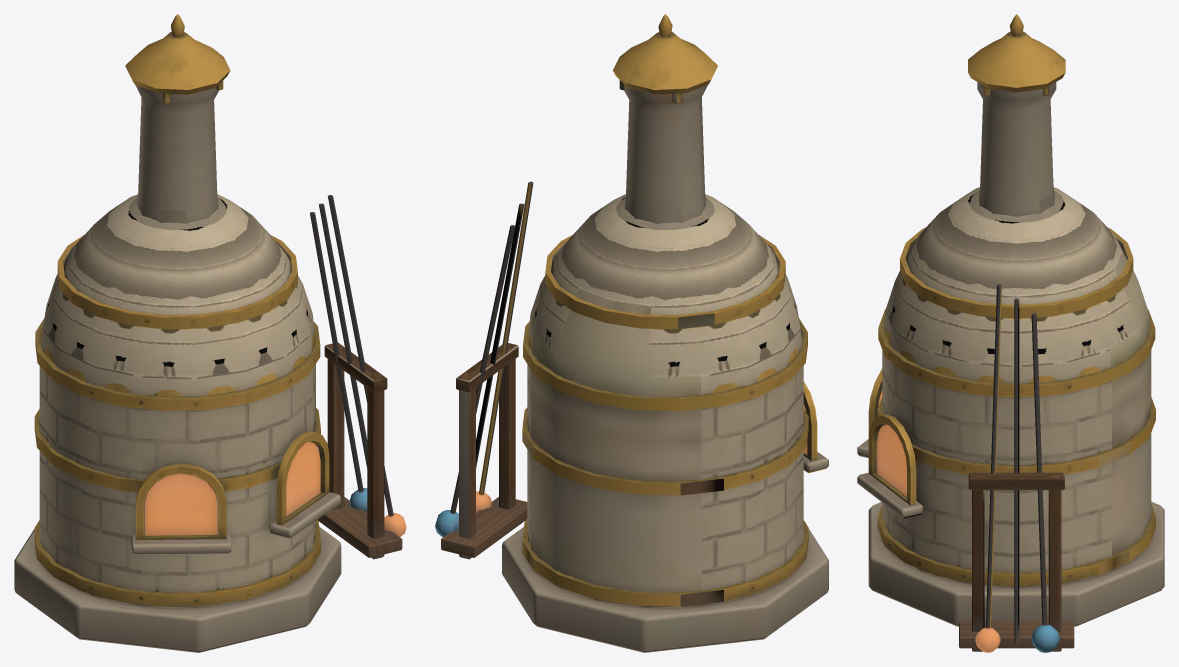
Rendered from glass-furnace.hq.glb.
The picture shows the model from 3 angles, left to right: view 1: azimuth 30°, elevation 25°; view 2: azimuth 150°, elevation 25°; view 3: azimuth 270°, elevation 25°; orthographic projection. The views are drawn at different scales.
Visible parts, largest first — view 1: glass-furnace; view 2: glass-furnace; view 3: glass-furnace.
Part boxes in pixels (x1,y1,x2,y2): glass-furnace: [14, 14, 406, 652]; glass-furnace: [435, 14, 828, 652]; glass-furnace: [857, 14, 1164, 652].
Size of the model in its own units: 1.21 by 1.9 by 0.9601.
2 materials, 2 textured.
